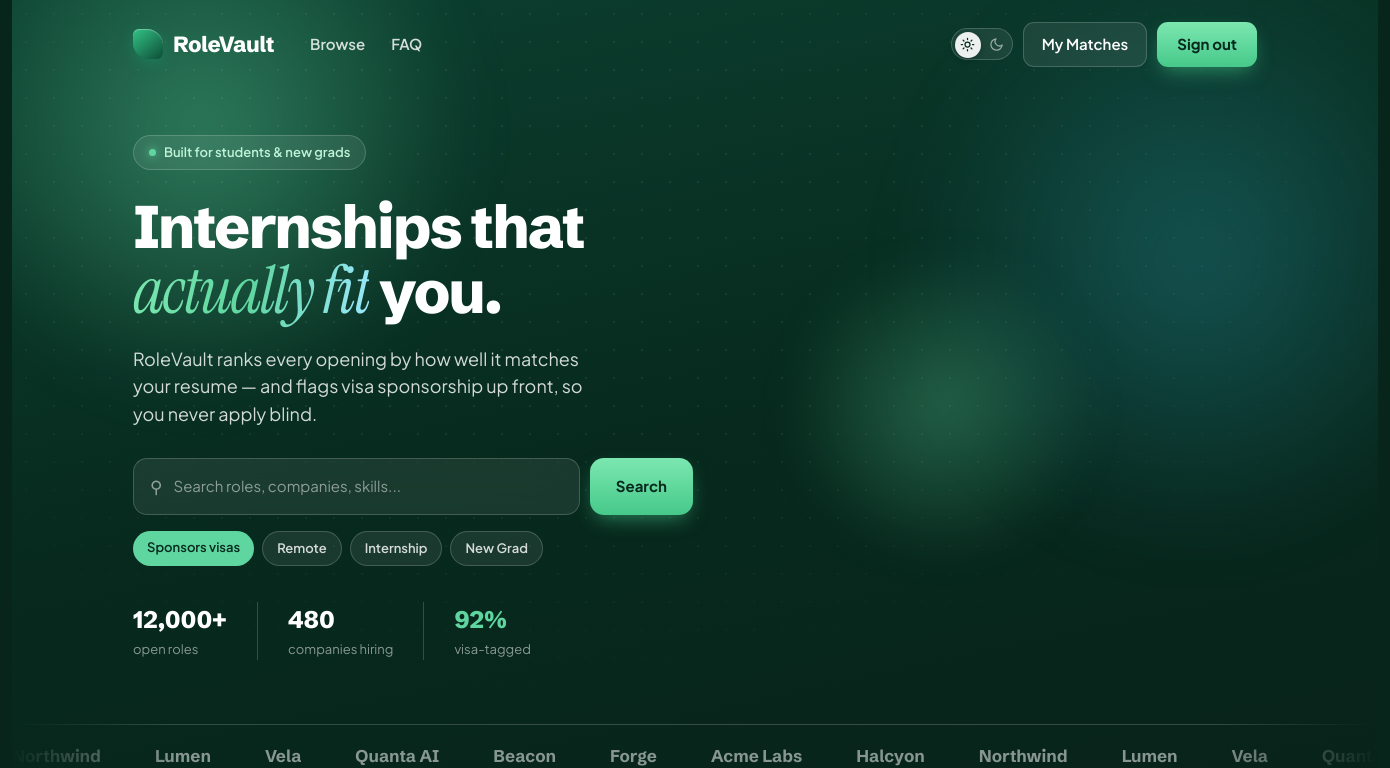
it: session-aware navigation › drops the session and returns home on sign out
Click the button "Sign out": (1207,44) [1157,22,1257,66]
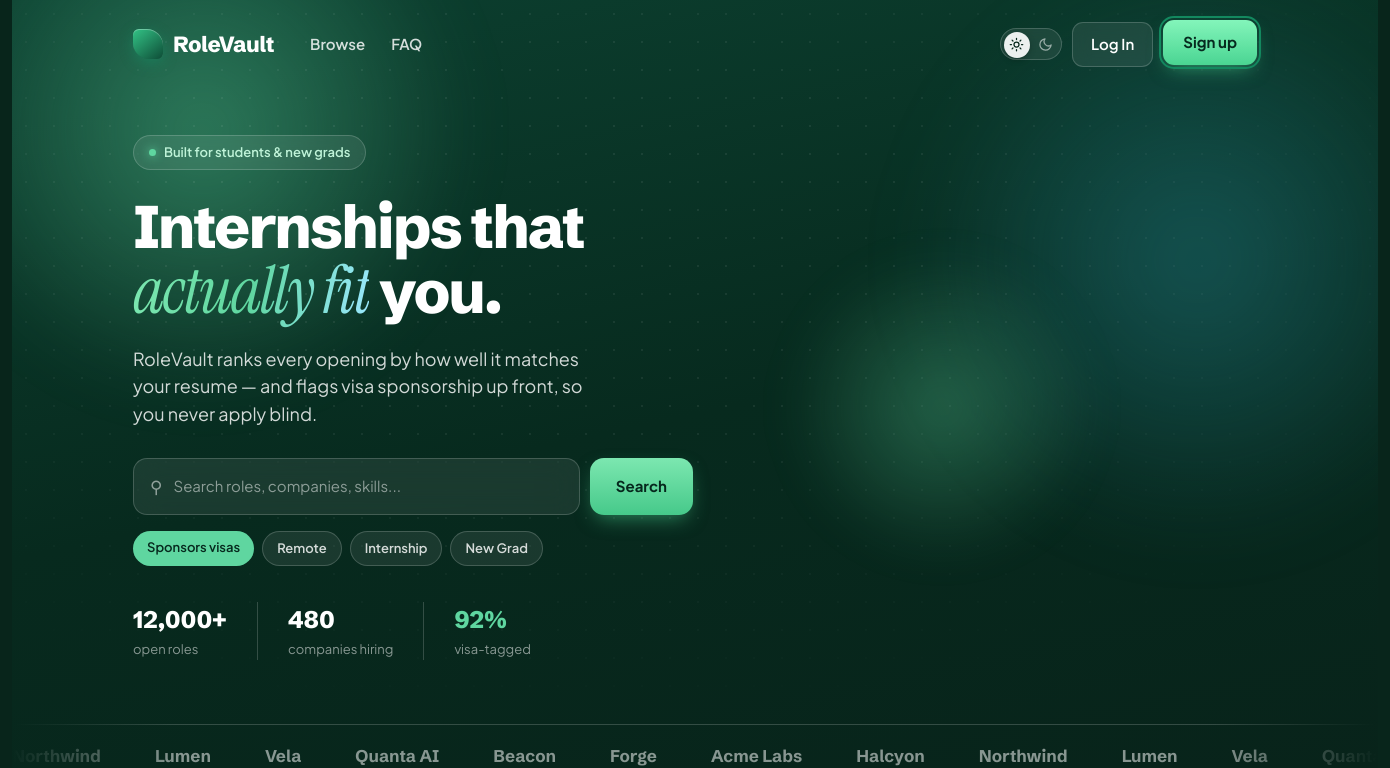
Expected: the button "Log In" is shown, [1072,22,1153,66]
